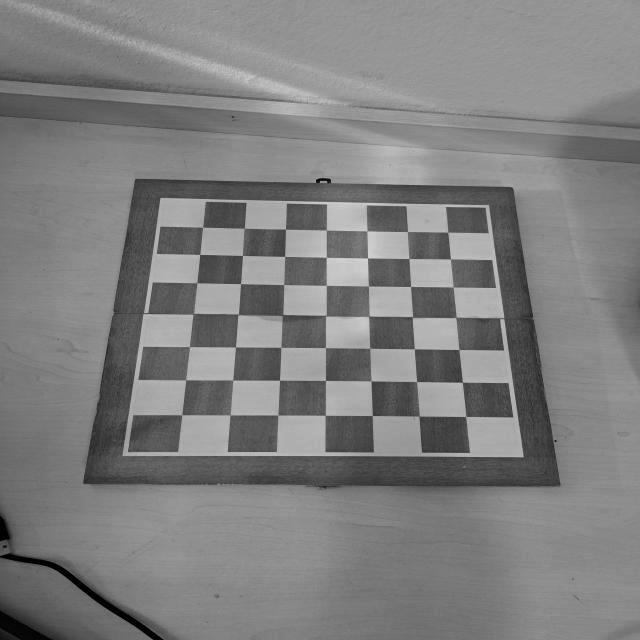chess-table-corners: (114, 441, 144, 462), (503, 445, 530, 462), (152, 194, 176, 208), (472, 202, 494, 216)
